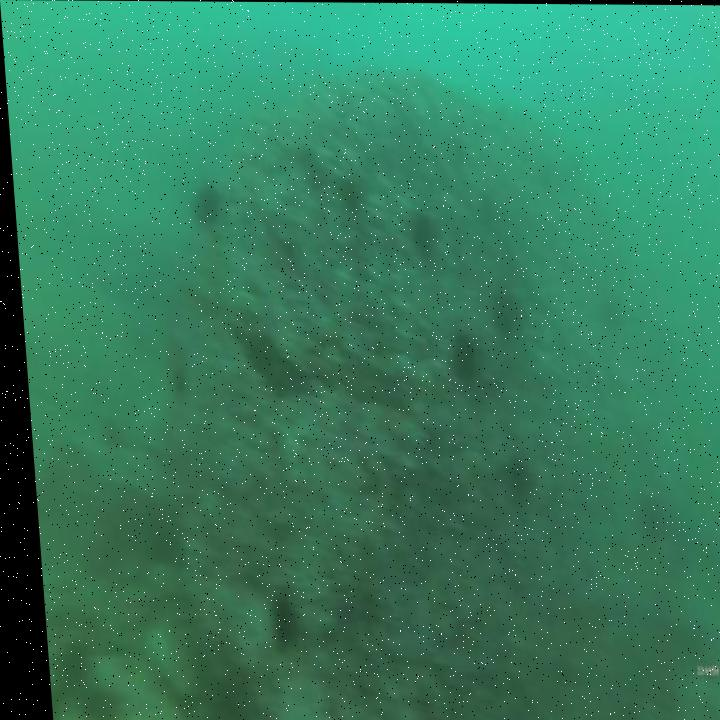echinus: (255, 579, 296, 654), (482, 276, 524, 342), (444, 326, 477, 390), (185, 179, 224, 229), (403, 207, 440, 257), (498, 451, 530, 503), (336, 167, 360, 217)
